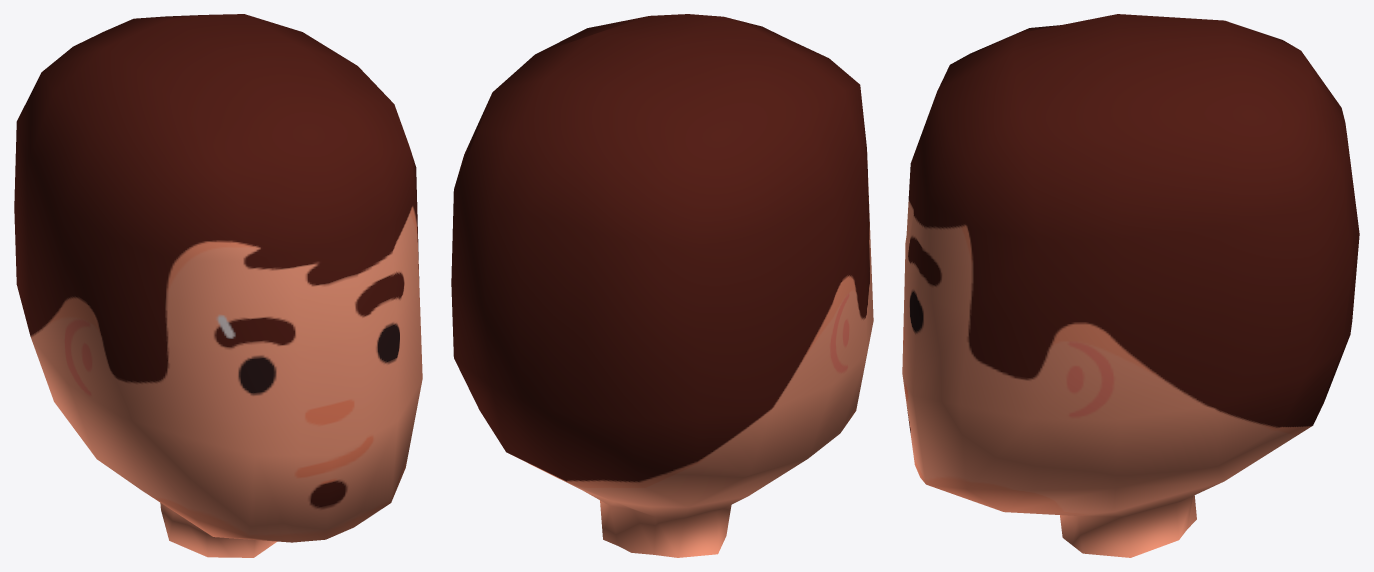
The model's file is head.glb.
3 views of the same model, side by side, from view 1: azimuth 30°, elevation 25°; view 2: azimuth 150°, elevation 25°; view 3: azimuth 270°, elevation 25° (orthographic). The views are drawn at different scales.
Visible parts, largest first — view 1: characterMedium; view 2: characterMedium; view 3: characterMedium.
Part boxes in pixels (x1,y1,x2,y2): characterMedium: (14,14,422,557); characterMedium: (451,14,873,557); characterMedium: (902,14,1359,557).
Bounding box in the file's own units: 0.8781 × 1.25 × 1.05.
1 material, 1 textured.
